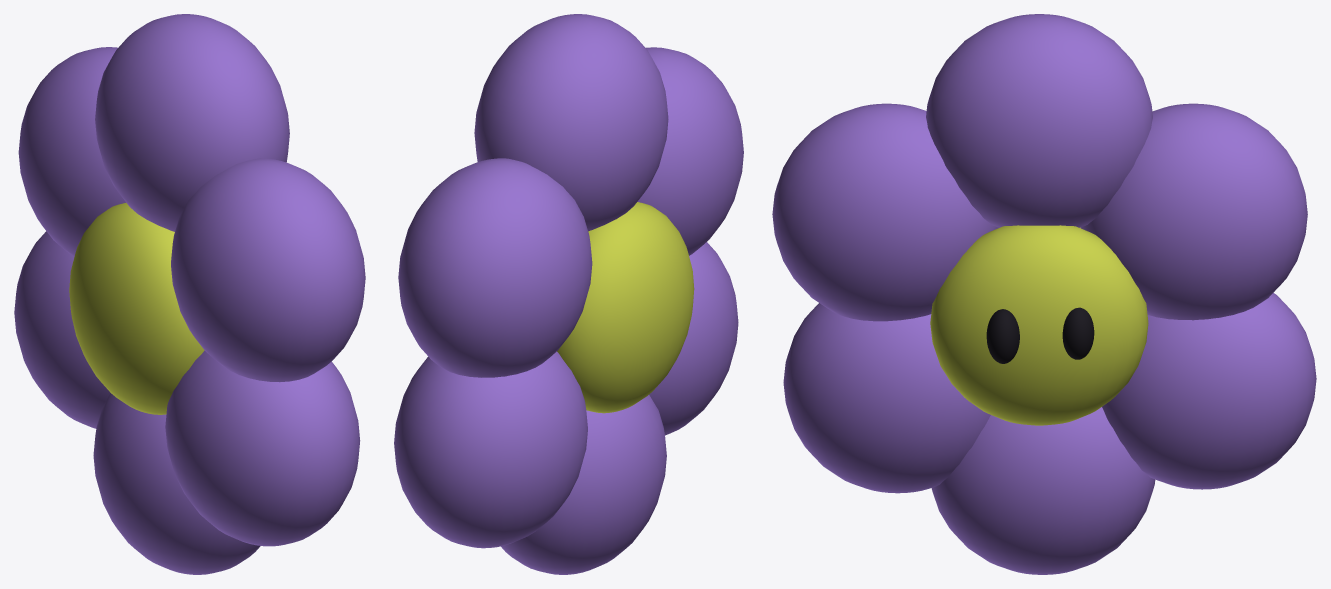
File: DaisyColor.glb
The picture shows the model from 3 angles, left to right: view 1: azimuth 30°, elevation 25°; view 2: azimuth 150°, elevation 25°; view 3: azimuth 270°, elevation 25°; orthographic projection.
Parts seen in each view (by area): view 1: Sphere.003, Sphere.001, Sphere.004, Sphere.009, Sphere.005, Sphere.002, Sphere.006; view 2: Sphere.002, Sphere.006, Sphere.001, Sphere.009, Sphere.005, Sphere.003, Sphere.004; view 3: Sphere.001, Sphere.002, Sphere.003, Sphere, Sphere.006, Sphere.004, Sphere.005, eyeL, eyeR.
Part boxes in pixels (x1,y1,x2,y2): Sphere.003: [171, 158, 365, 382]; Sphere.001: [95, 14, 289, 231]; Sphere.004: [165, 350, 360, 546]; Sphere.009: [69, 203, 204, 414]; Sphere.005: [93, 393, 260, 574]; Sphere.002: [18, 47, 125, 256]; Sphere.006: [14, 231, 110, 428]; Sphere.002: [398, 158, 592, 377]; Sphere.006: [394, 351, 587, 548]; Sphere.001: [474, 14, 668, 231]; Sphere.009: [557, 202, 694, 413]; Sphere.005: [501, 395, 666, 574]; Sphere.003: [637, 47, 743, 255]; Sphere.004: [649, 242, 738, 435]; Sphere.001: [926, 14, 1152, 227]; Sphere.002: [1080, 103, 1307, 320]; Sphere.003: [772, 103, 998, 321]; Sphere: [930, 225, 1148, 425]; Sphere.006: [1102, 293, 1316, 489]; Sphere.004: [783, 303, 990, 493]; Sphere.005: [931, 407, 1155, 574]; eyeL: [986, 309, 1019, 363]; eyeR: [1062, 307, 1094, 359].
Size of the model in its own units: 1.44 by 3.27 by 2.94.
